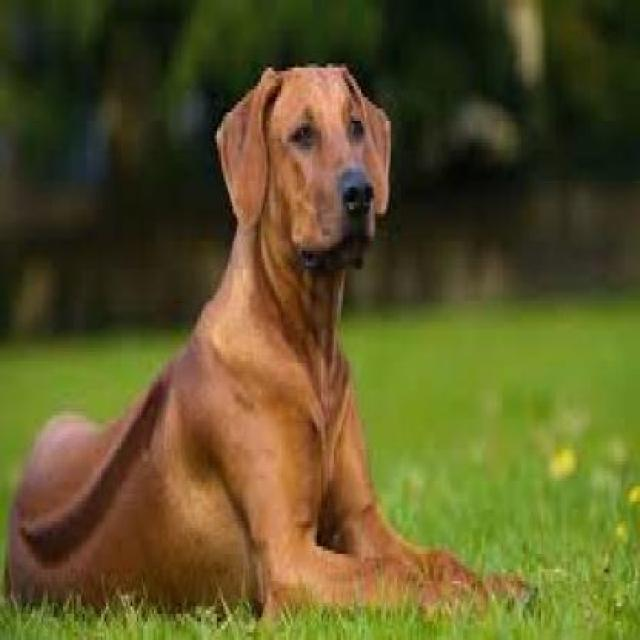animals: (20, 35, 515, 640)
